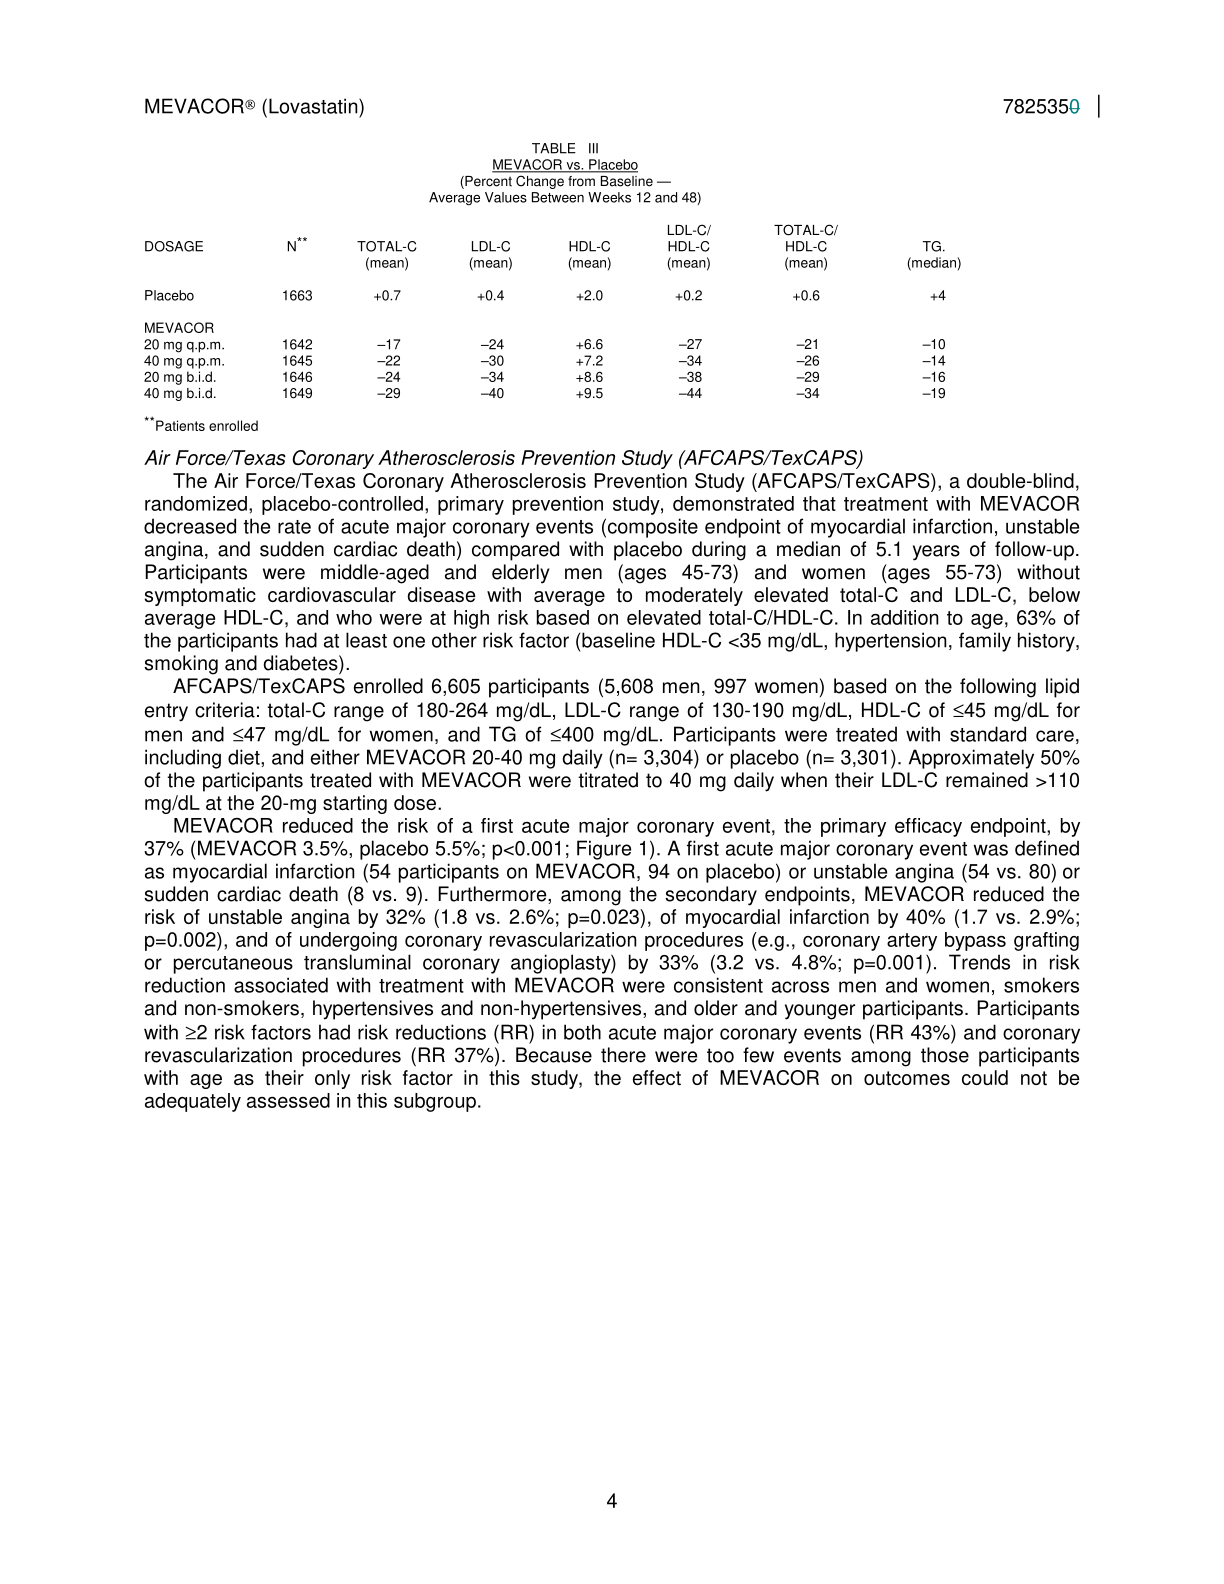nolines: (139, 220, 962, 401)
